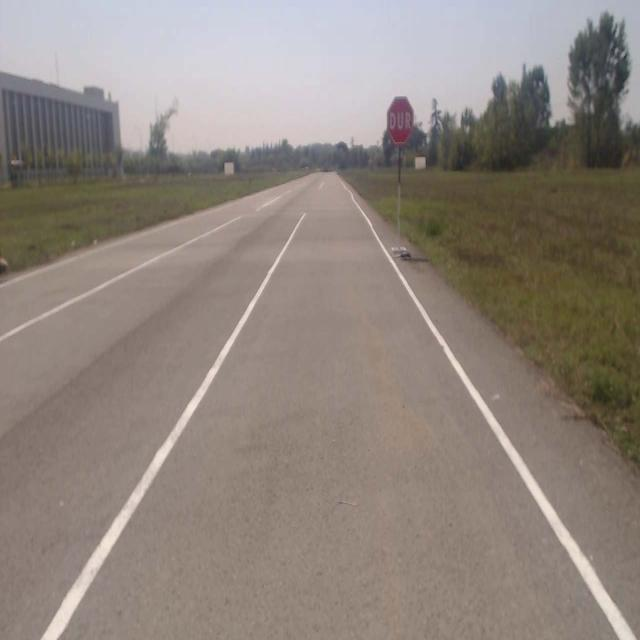dur: (387, 97, 415, 144)
